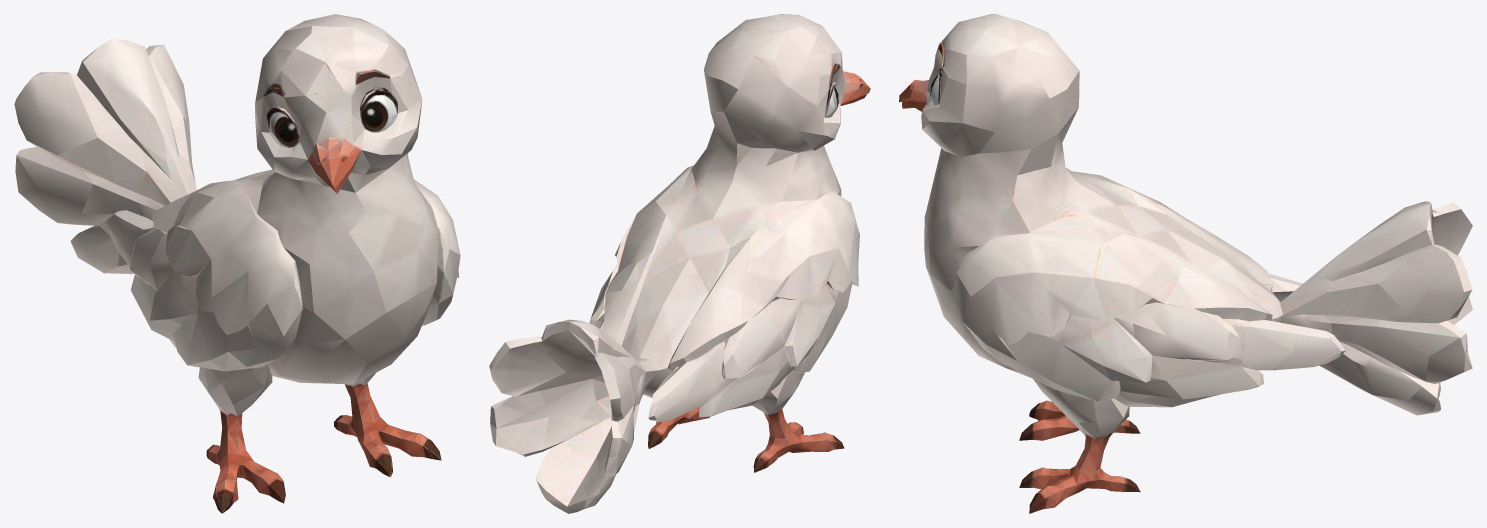
The model's file is pet-dove.glb.
The picture shows the model from 3 angles, left to right: view 1: azimuth 30°, elevation 25°; view 2: azimuth 150°, elevation 25°; view 3: azimuth 270°, elevation 25°; orthographic projection. The views are drawn at different scales.
Bounding box in the file's own units: 0.8409 × 1.59 × 1.9.
Materials: 1 (1 with a texture image).
